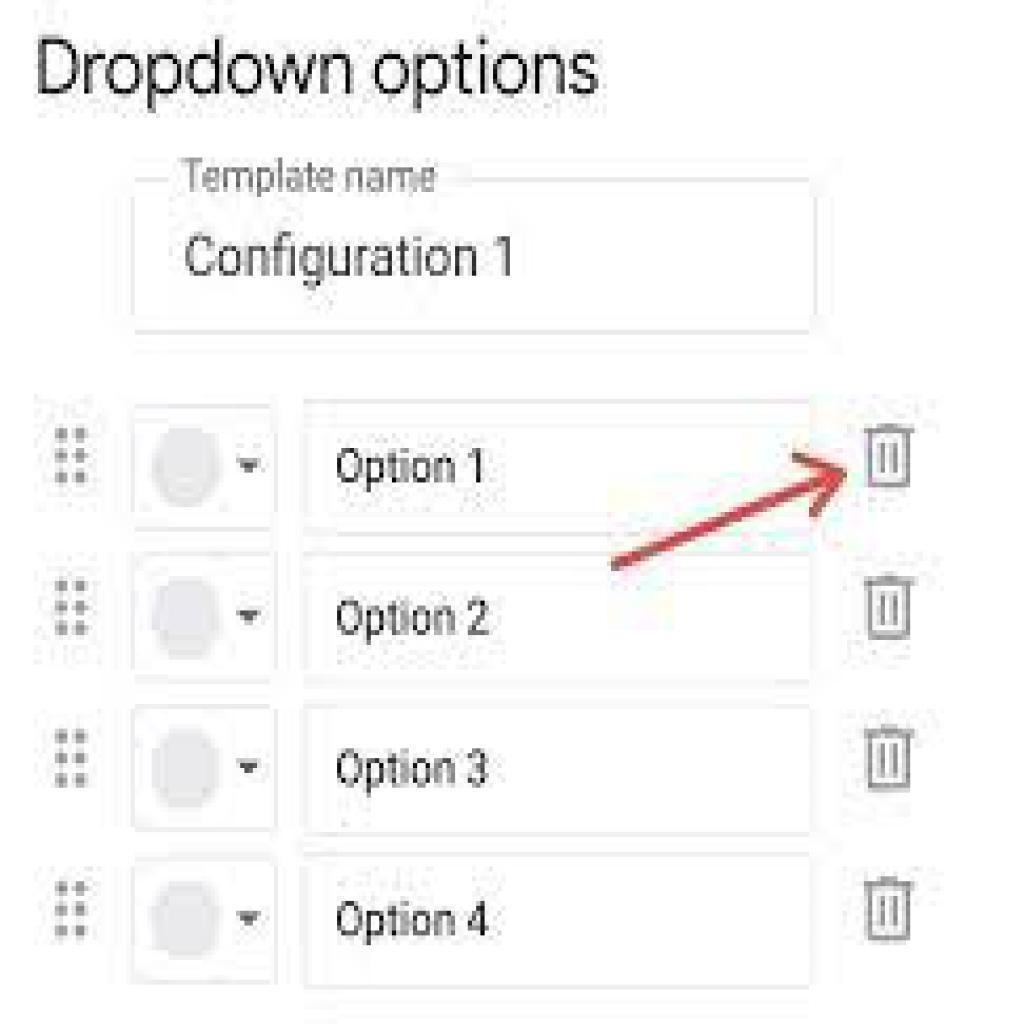icon: (861, 870, 917, 951), (862, 568, 916, 648), (861, 424, 924, 491), (862, 720, 916, 797), (48, 572, 97, 644), (50, 422, 93, 490), (55, 872, 91, 949), (55, 725, 93, 795)
input: (137, 183, 817, 333), (308, 401, 812, 536), (304, 551, 813, 682), (302, 855, 814, 983), (304, 707, 814, 833)
label: (175, 148, 441, 204)
